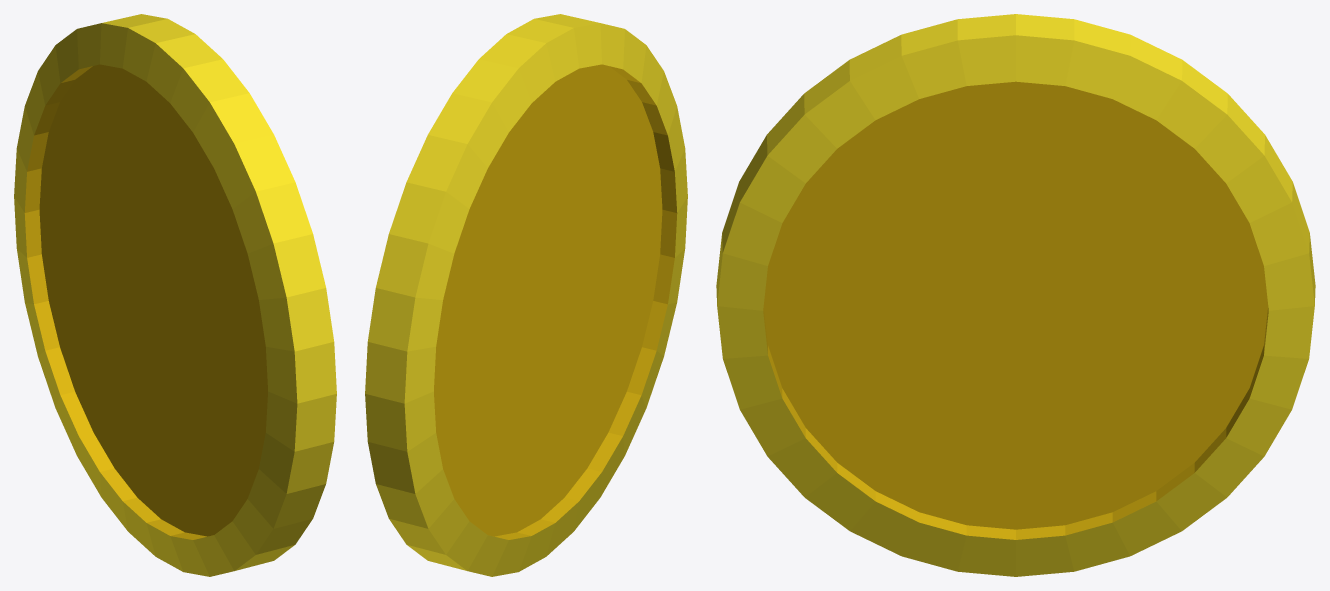
File: GoldTextured.fbx
3 renders of one model, left to right at view 1: azimuth 30°, elevation 25°; view 2: azimuth 150°, elevation 25°; view 3: azimuth 270°, elevation 25°, orthographic. The views are drawn at different scales.
Parts seen in each view (by area): view 1: Circle; view 2: Circle; view 3: Circle.
Boxes of the visible parts, left/top/right/bottom form: Circle: left=14, top=14, right=336, bottom=576; Circle: left=365, top=14, right=687, bottom=576; Circle: left=716, top=14, right=1315, bottom=576.
Size of the model in its own units: 23.01 by 193 by 193.
